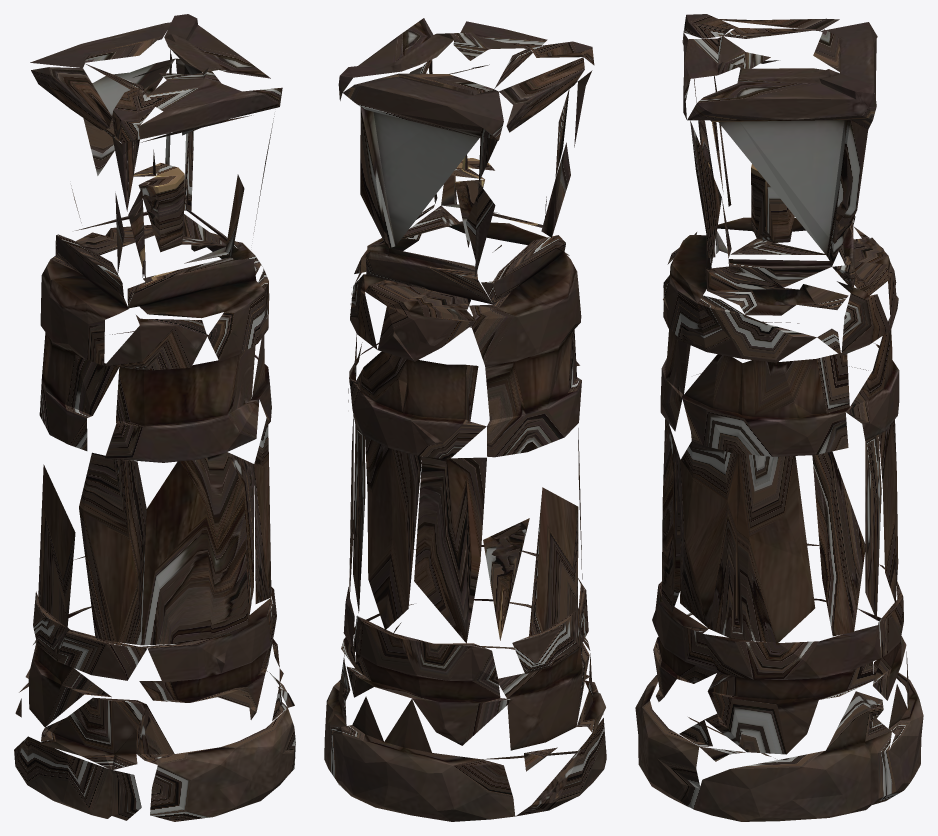
The model's file is prp_lamppost_a_LOD1.glb.
3 renders of one model, left to right at view 1: azimuth 30°, elevation 25°; view 2: azimuth 150°, elevation 25°; view 3: azimuth 270°, elevation 25°, orthographic.
Parts seen in each view (by area): view 1: geometry_0; view 2: geometry_0; view 3: geometry_0.
Part boxes in pixels (left/top/right/bottom): geometry_0: left=14, top=14, right=295, bottom=821; geometry_0: left=324, top=18, right=606, bottom=821; geometry_0: left=635, top=14, right=923, bottom=821.
Bounding box in the file's own units: 1.09 × 3 × 1.09.
1 material, 1 textured.
